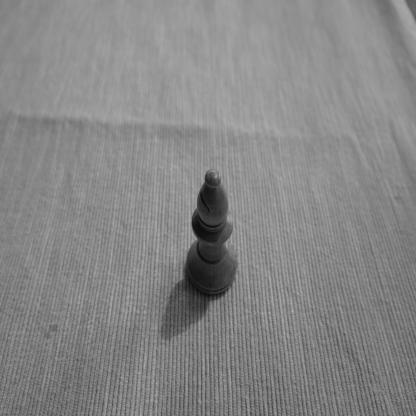white-bishop: (184, 168, 238, 299)
